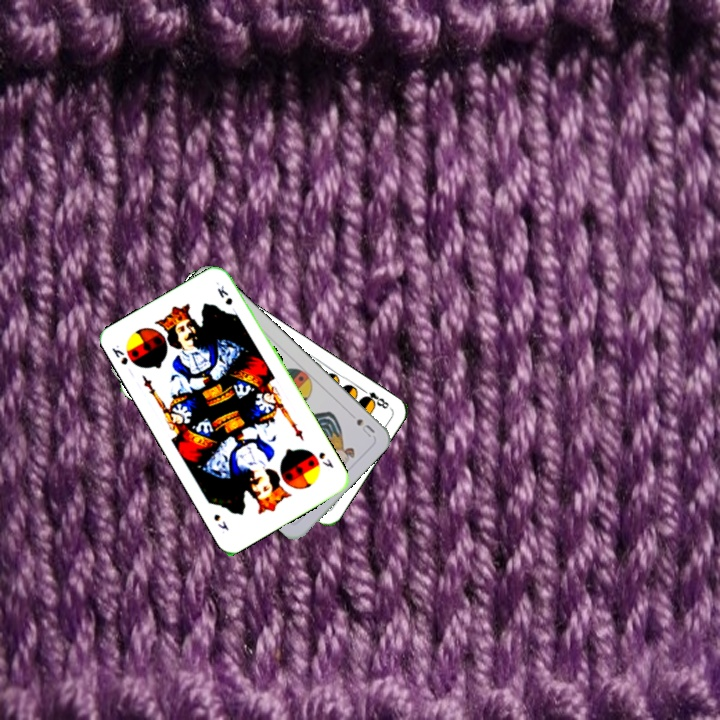E8: (357, 384, 391, 411)
SK: (108, 341, 130, 368), (315, 448, 336, 471)
SU: (352, 414, 377, 440)
